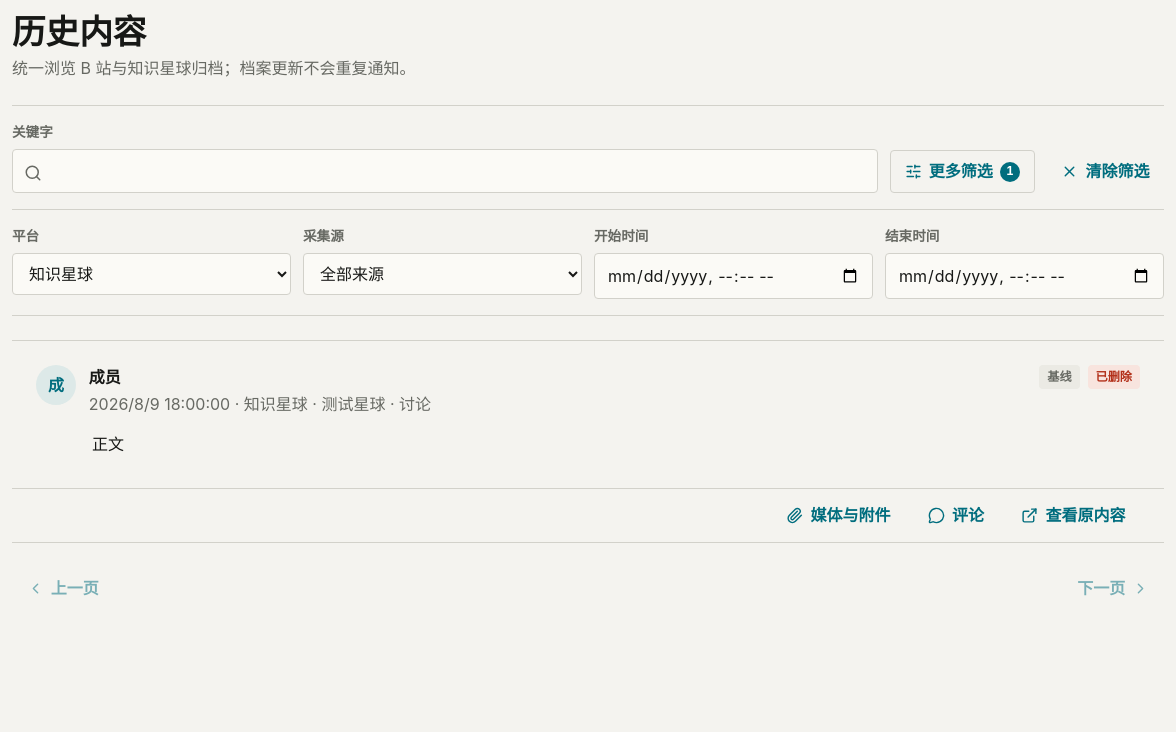
Test case: resource pages › shows Knowledge Planet archive state, attachment outcomes and an incomplete owner thread
This screenshot has width=1176, height=732.
Expected: the text "正文" is shown, [92, 434, 124, 454]
Expected: the text "已删除" is shown, [1088, 365, 1140, 389]
Click the button "媒体与附件" at (838, 516), box [772, 494, 905, 537]
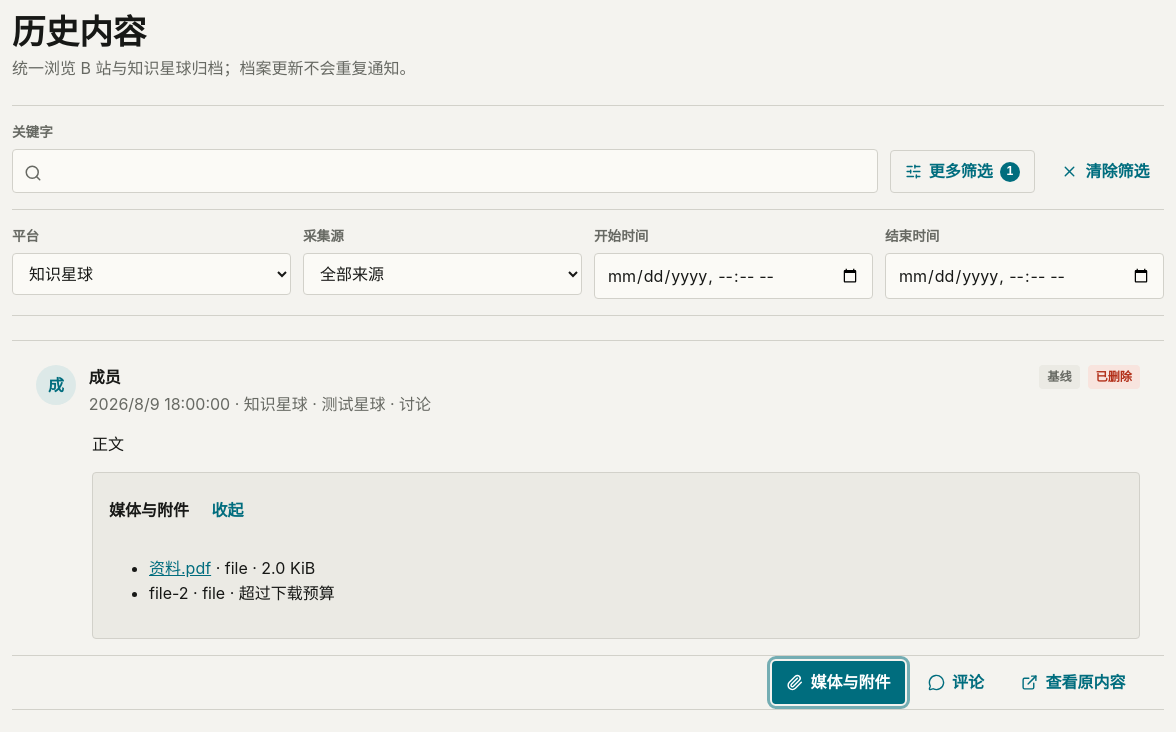
Now the list item "file-2 · file · 超过下载预算" is shown, box [149, 583, 335, 603]
Click the button with aria-label "查看评论：正文" at (956, 682), box [913, 661, 999, 704]
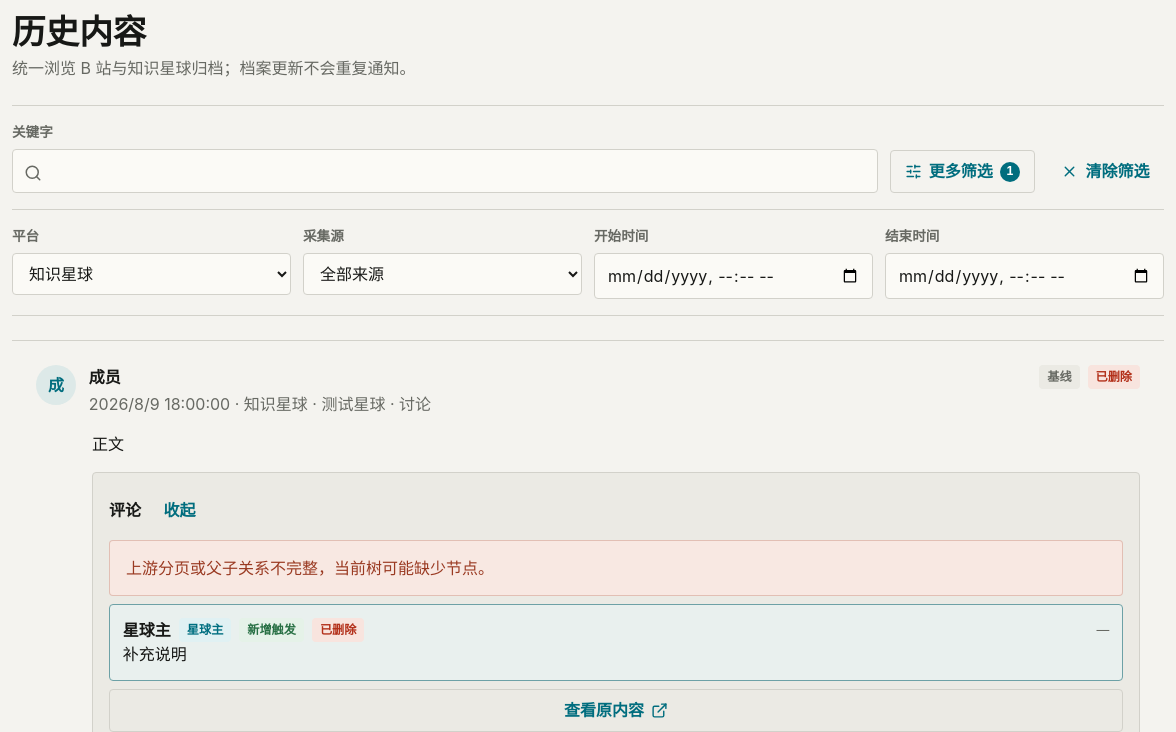
Now the text "上游分页或父子关系不完整，当前树可能缺少节点。" is shown, box [109, 540, 1123, 596]
Now the 1st text "星球主" is shown, box [123, 618, 171, 642]
Now the text "新增触发" is shown, box [239, 618, 304, 642]
